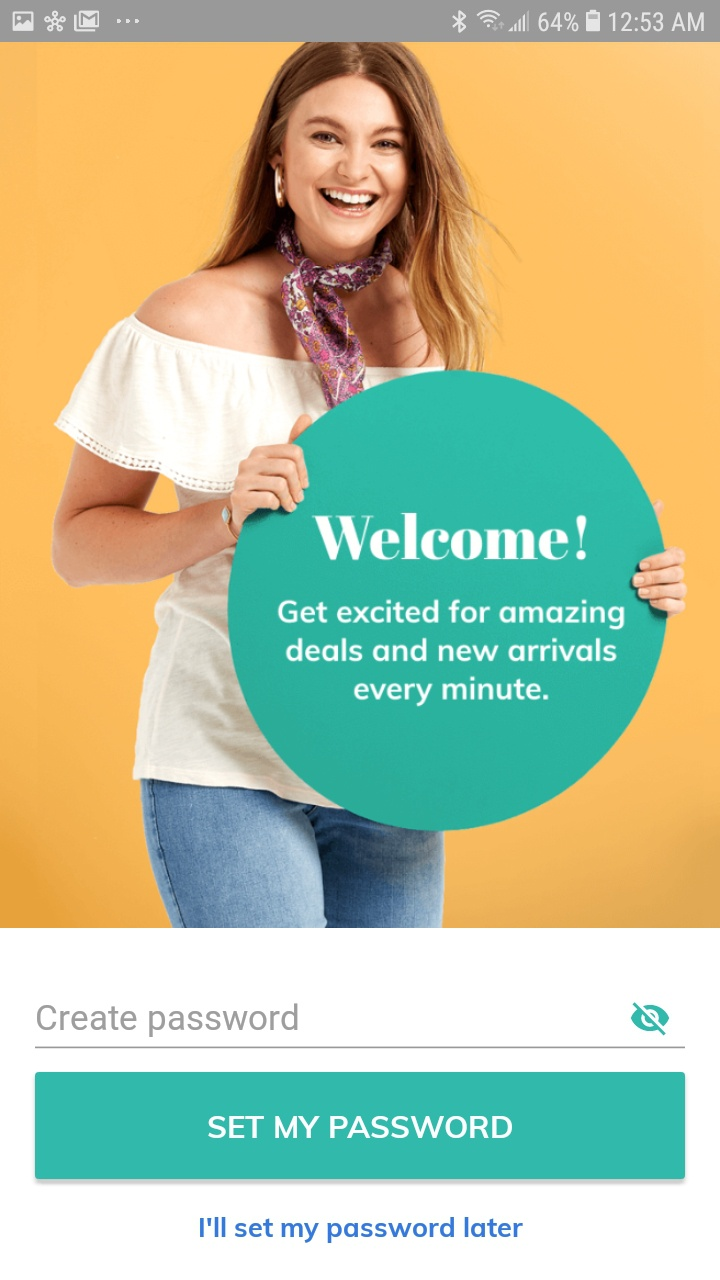EditText: (35, 1001, 685, 1049)
Icon: (631, 1001, 670, 1036)
Image: (1, 43, 720, 928)
Text: (277, 598, 625, 706), (311, 510, 586, 561), (37, 1003, 298, 1038), (200, 1216, 524, 1244)
TextButton: (36, 1072, 686, 1180)
UpperTaskBar: (1, 1, 720, 43)
